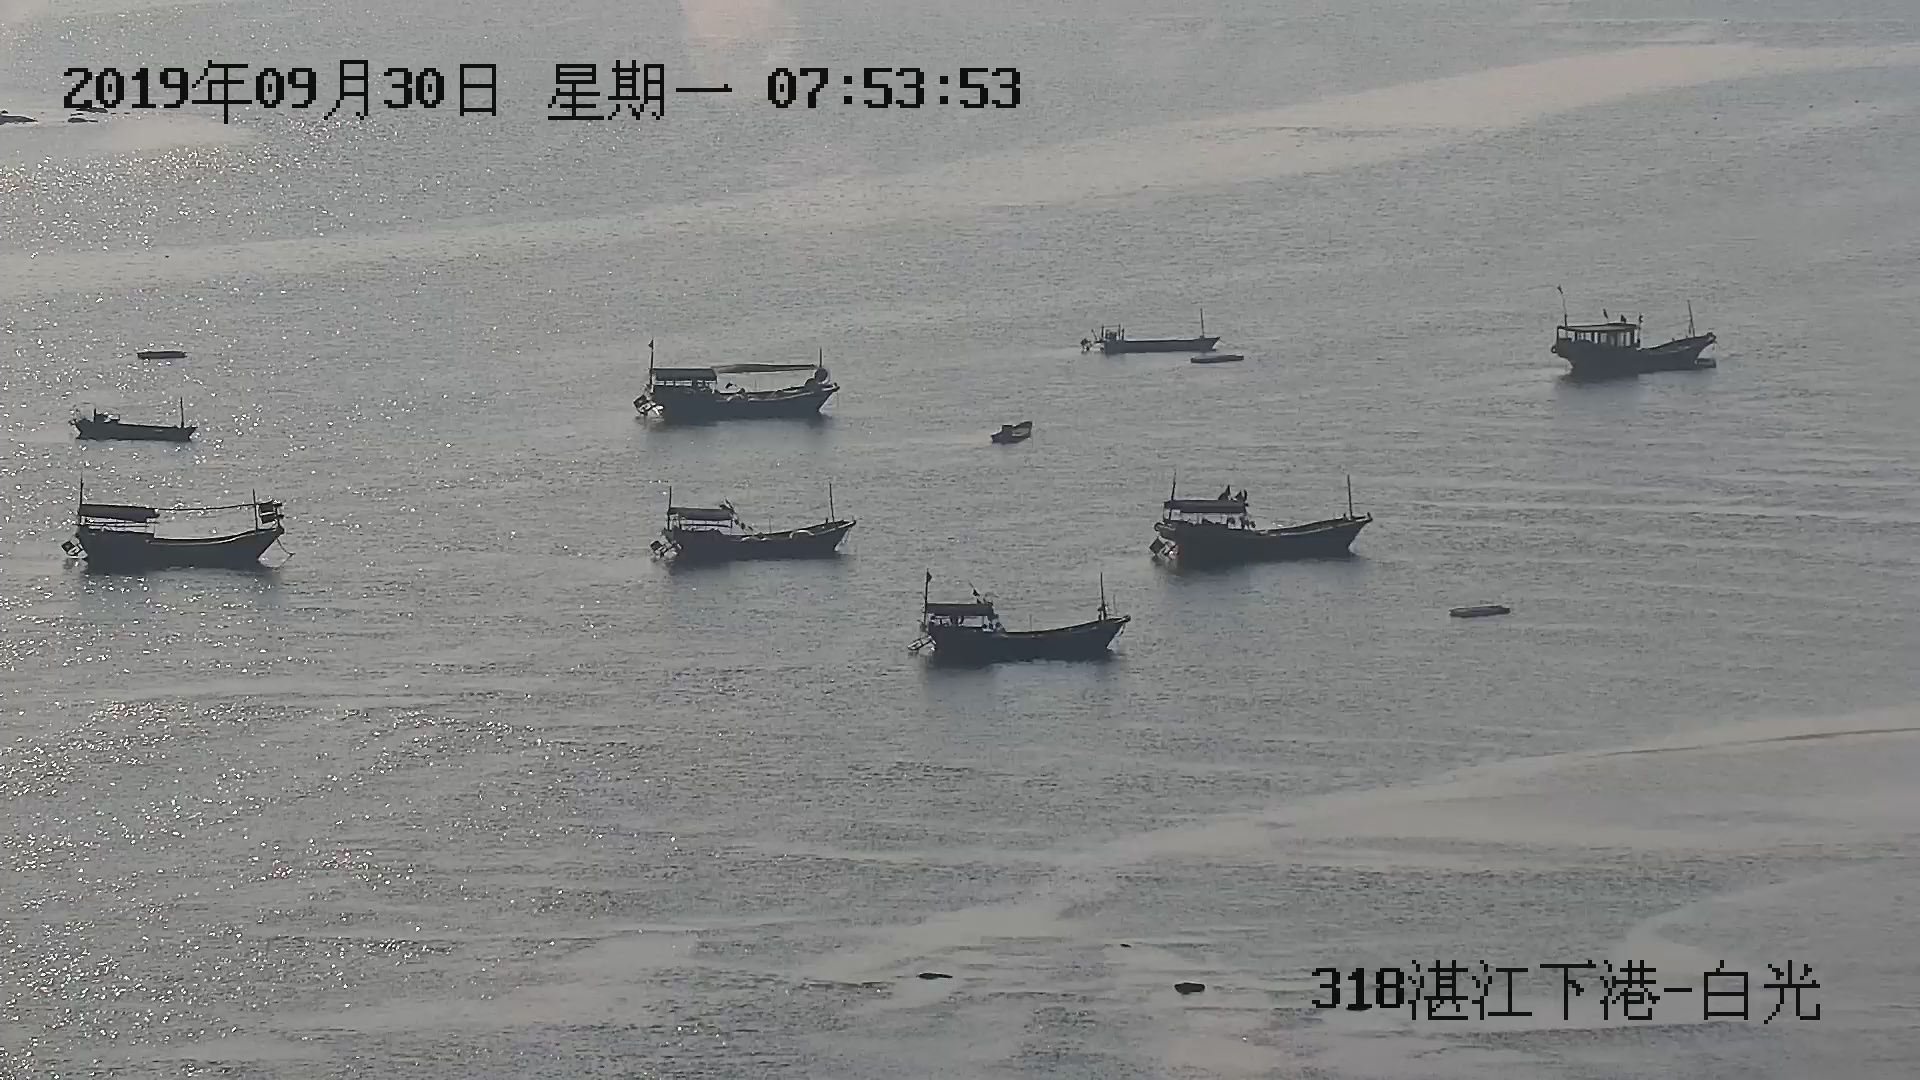ship: (1150, 476, 1371, 568), (916, 572, 1129, 666), (69, 498, 290, 575), (649, 489, 856, 567), (1549, 293, 1718, 381), (641, 357, 843, 422), (70, 400, 195, 444), (1084, 318, 1226, 356)
